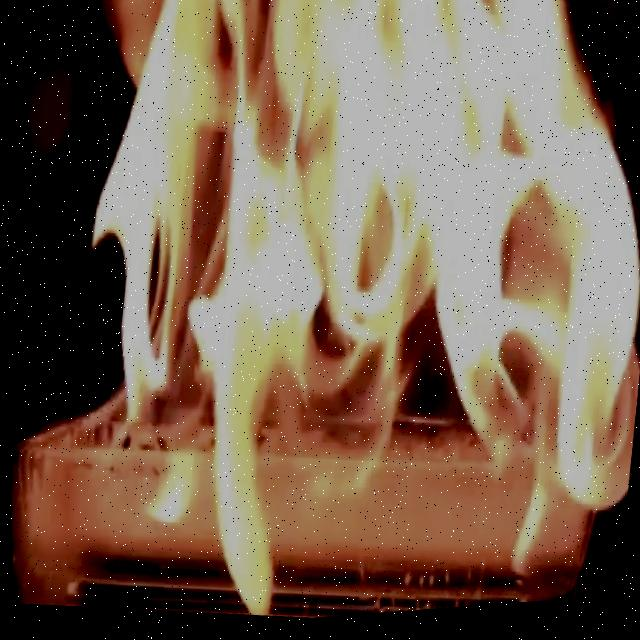Fire: (46, 0, 640, 637)
